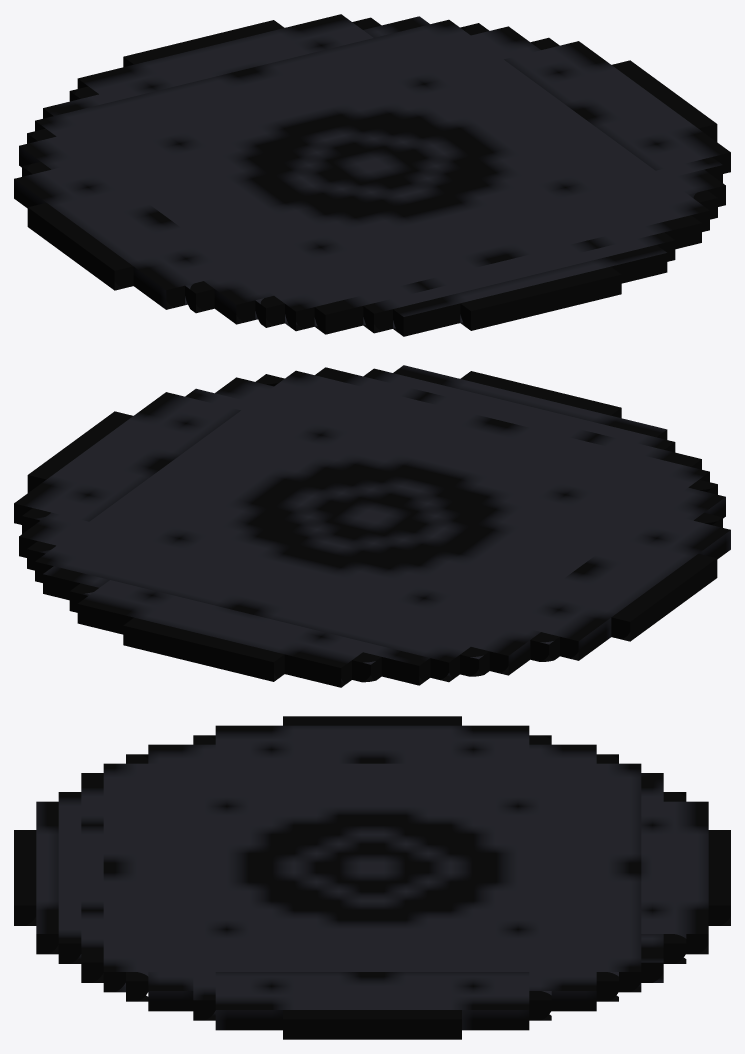
File: Wlaz_kanalowy.dae
3 renders of one model, top to bottom at view 1: azimuth 30°, elevation 25°; view 2: azimuth 150°, elevation 25°; view 3: azimuth 270°, elevation 25°, orthographic. The views are drawn at different scales.
Parts seen in each view (by area): view 1: Wlaz_kanal; view 2: Wlaz_kanal; view 3: Wlaz_kanal.
Part boxes in pixels (<box>): Wlaz_kanal: <box>14,14,730,336</box>; Wlaz_kanal: <box>14,365,730,687</box>; Wlaz_kanal: <box>14,716,730,1039</box>.
Size of the model in its own units: 32 by 1 by 32.
1 material, 1 textured.
